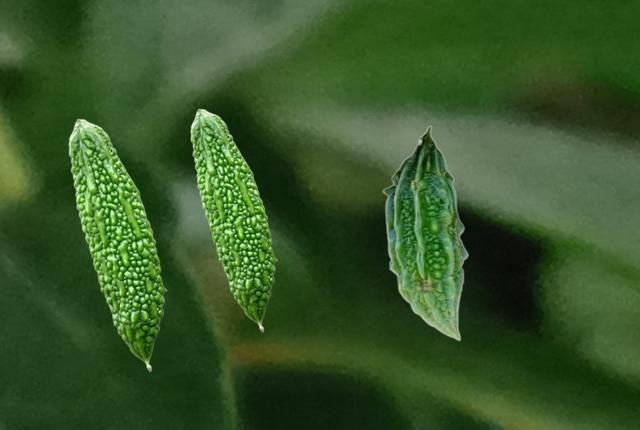ampalaya: (66, 116, 168, 372), (190, 108, 278, 332), (382, 124, 470, 341)
